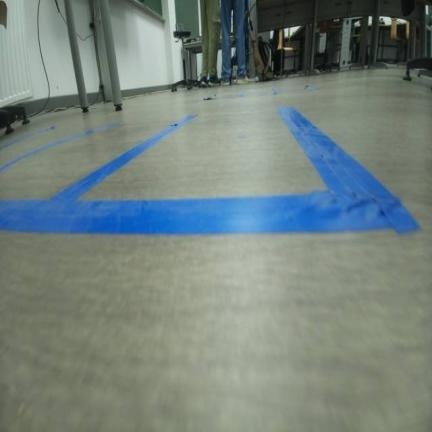place: (23, 106, 418, 233), (0, 114, 199, 232), (0, 122, 122, 170)
